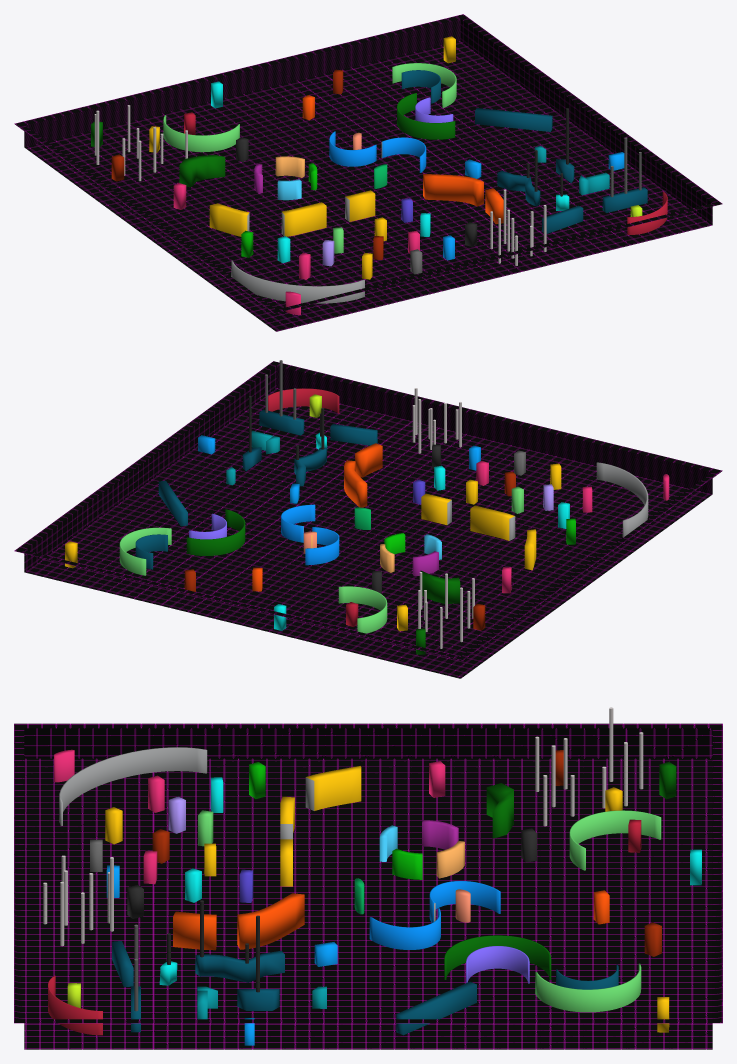
File: partycity.glb
3 views of the same model, one above another, from view 1: azimuth 30°, elevation 25°; view 2: azimuth 150°, elevation 25°; view 3: azimuth 270°, elevation 25° (orthographic). The views are drawn at different scales.
Visible parts, largest first — view 1: floor, city, walls, city.002, floor.002, city.001; view 2: floor, city, walls, city.002, floor.002, city.001; view 3: floor, city, walls, city.002, floor.002, city.001.
Boxes of the visible parts, <box> form: floor: <box>24,41,712,331</box>; city: <box>91,36,647,315</box>; walls: <box>14,14,722,313</box>; city.002: <box>94,105,641,265</box>; floor.002: <box>423,173,503,224</box>; city.001: <box>627,191,667,234</box>; floor: <box>24,388,712,678</box>; city: <box>65,394,669,654</box>; walls: <box>14,361,722,660</box>; city.002: <box>249,360,474,648</box>; floor.002: <box>344,443,382,507</box>; city.001: <box>268,388,339,413</box>; floor: <box>24,758,712,1049</box>; city: <box>54,747,701,1045</box>; walls: <box>14,723,722,1023</box>; city.002: <box>43,707,643,1011</box>; floor.002: <box>173,893,304,950</box>; city.001: <box>48,975,102,1035</box>.
Size of the model in its own units: 2060 by 306 by 2060.
Materials: 3 (3 with a texture image).
